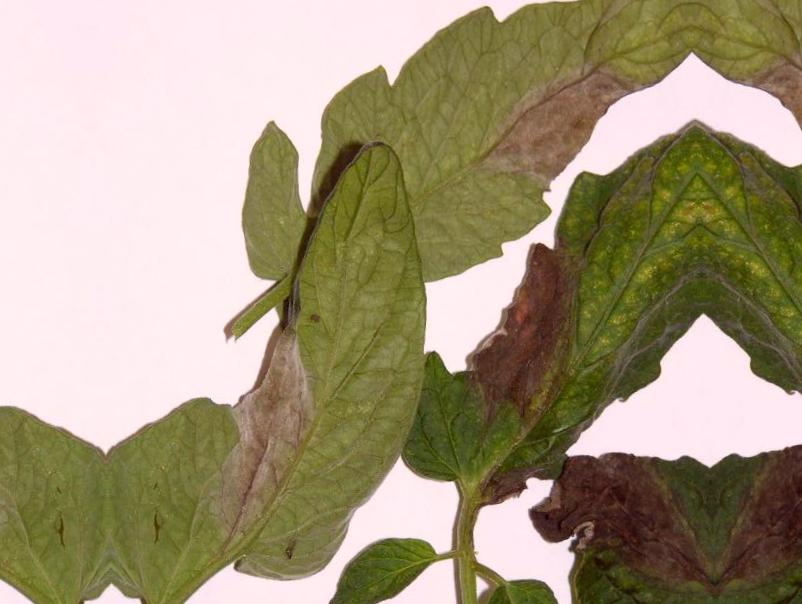Tomato leaf late blight: (101, 145, 449, 604), (239, 0, 702, 328), (397, 114, 708, 502)
